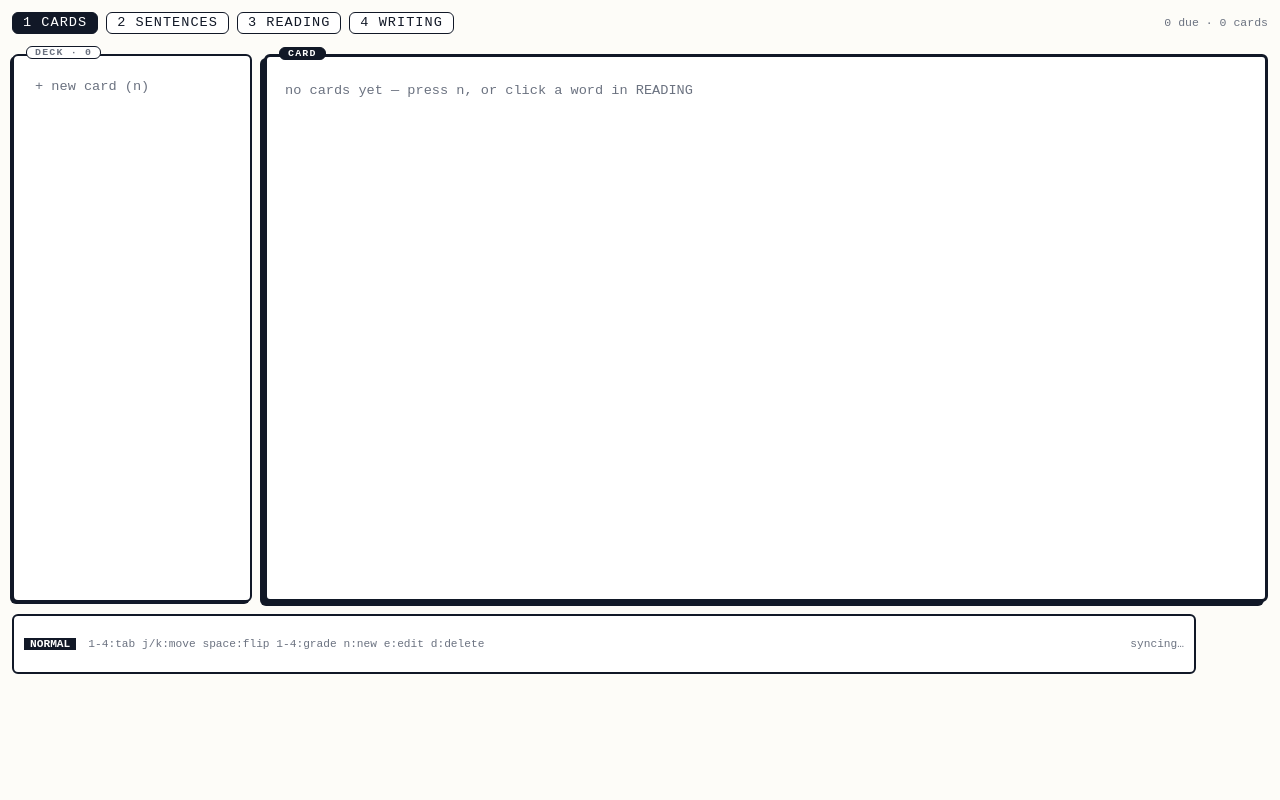
Test: English page › saves a card from the n form to the server
Expected: the text "no cards yet — press n, or click a word in READING" is shown, [285, 83, 693, 98]
Press n
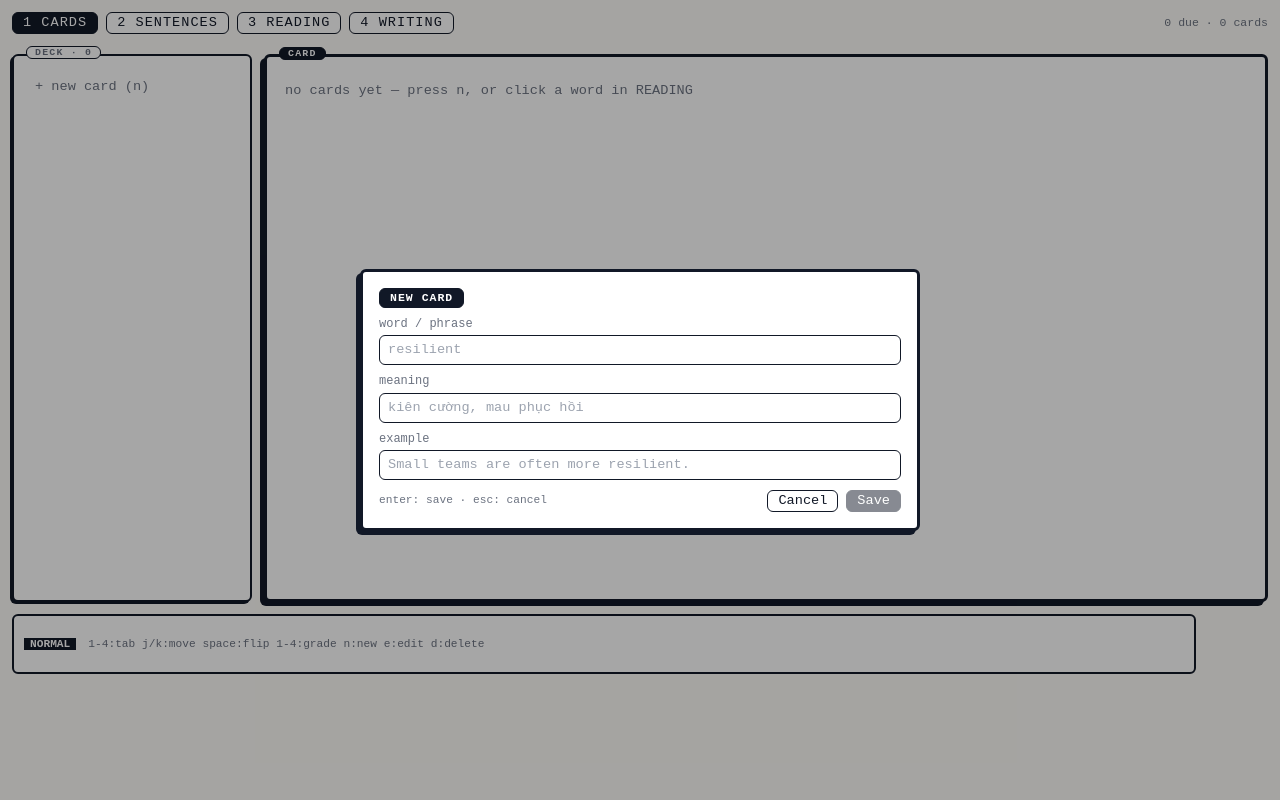
Type "bottleneck" into the field with placeholder "resilient" at (640, 350), box [379, 336, 901, 365]
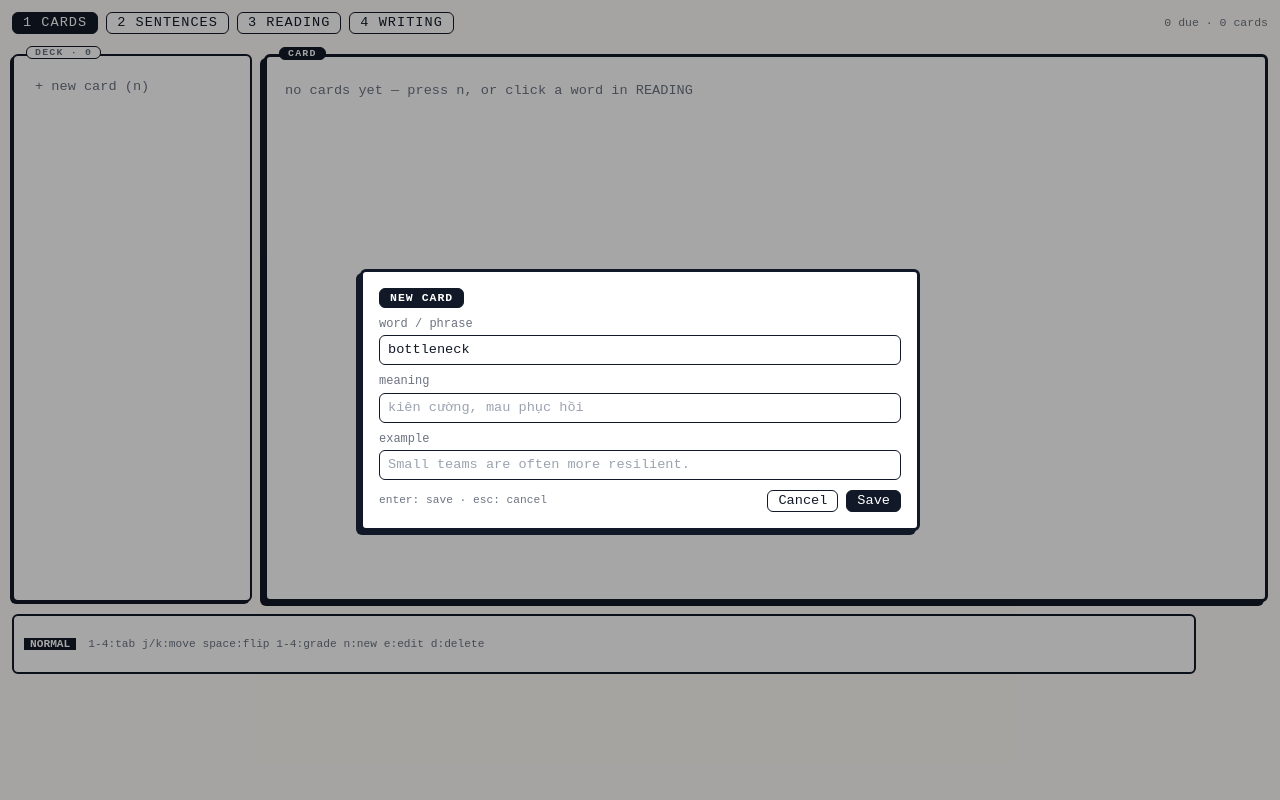
Click the button "Save" at (874, 501), box [846, 490, 901, 512]
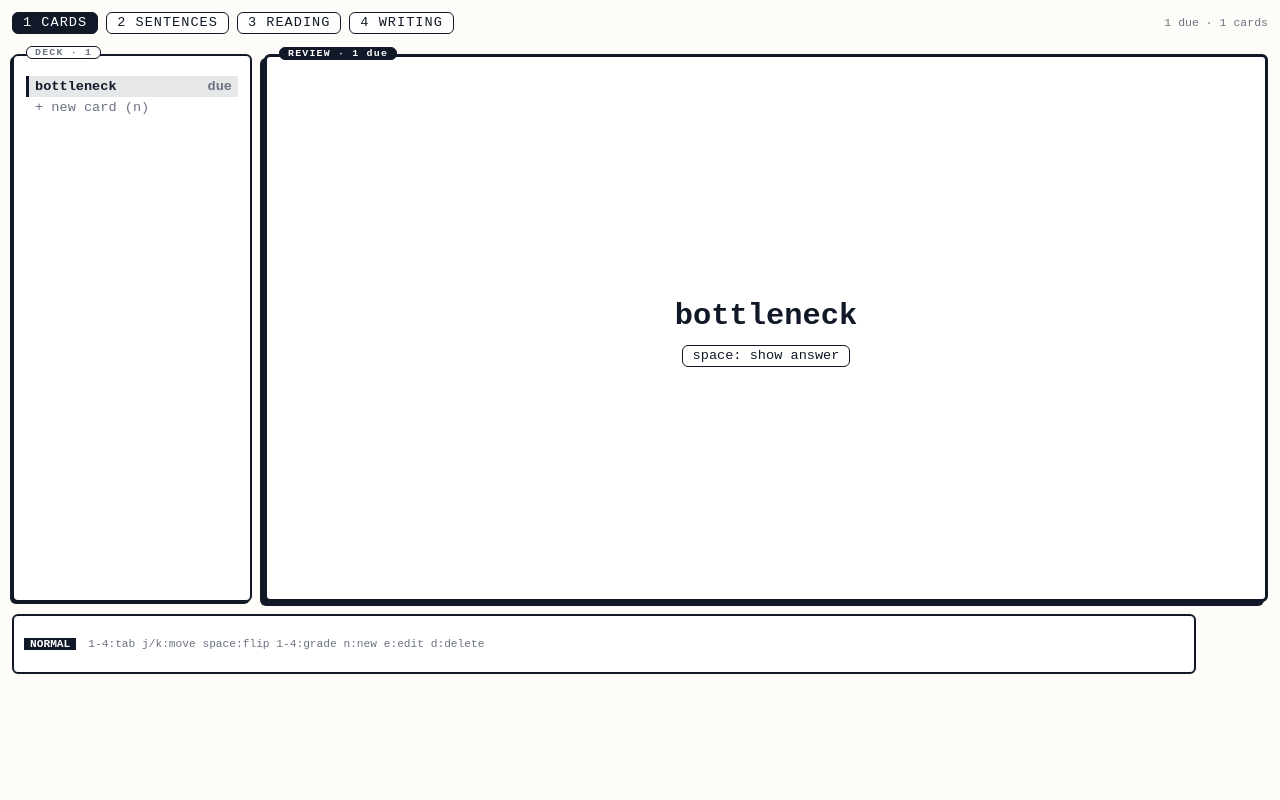
Expected: the text "bottleneck" below "DECK · 1" is shown, [35, 79, 117, 94]
